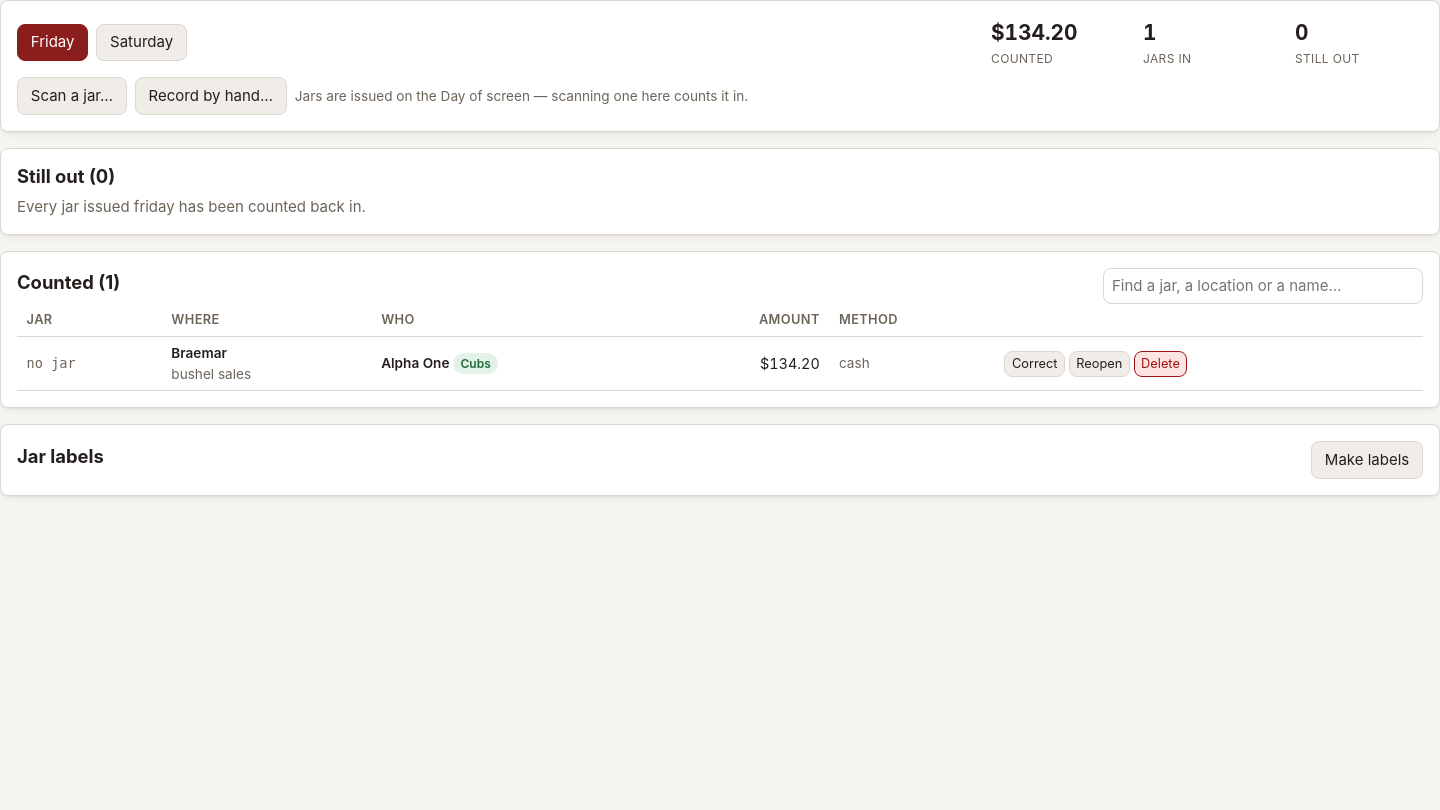
Test: deleting a counted jar › names money recorded without a jar properly
Click the button "Delete": (1160, 364) [1134,351,1187,377]
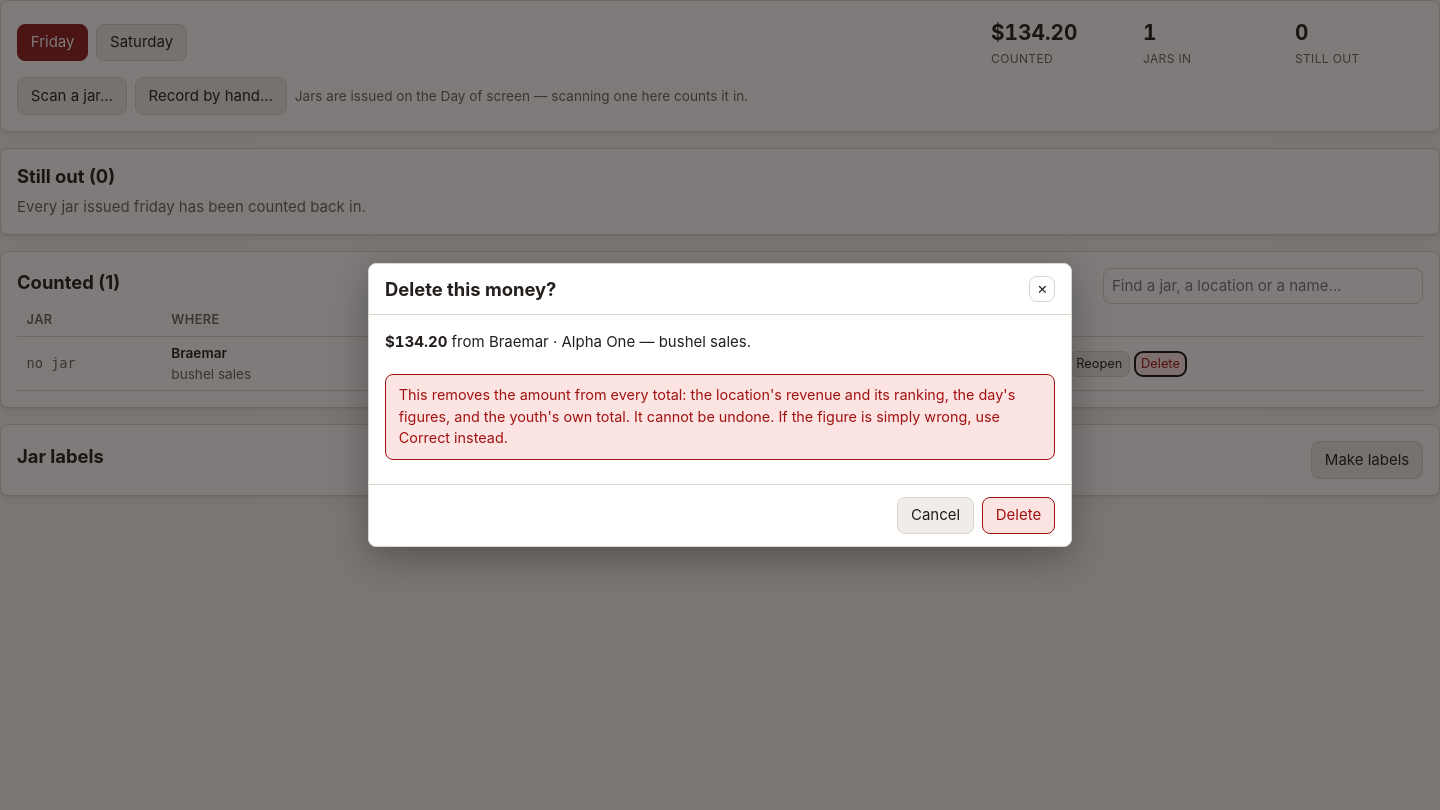
Result: the heading "Delete this money?" is shown at [385,278,556,300]
Result: the text "$134.20 from Braemar · Alpha One — bushel sales." is shown at [385,332,751,351]
